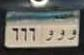6: (29, 27, 36, 42), (12, 27, 19, 41), (21, 27, 27, 42)
waw: (45, 28, 55, 43), (67, 29, 78, 42), (57, 29, 66, 42)
